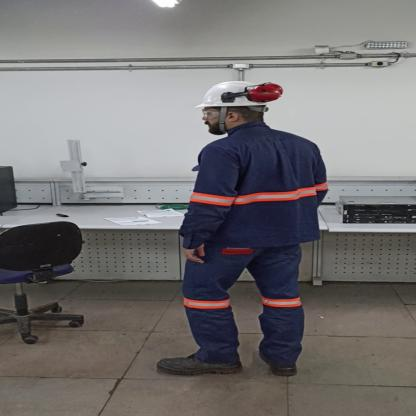Capacete: (190, 82, 281, 107)
